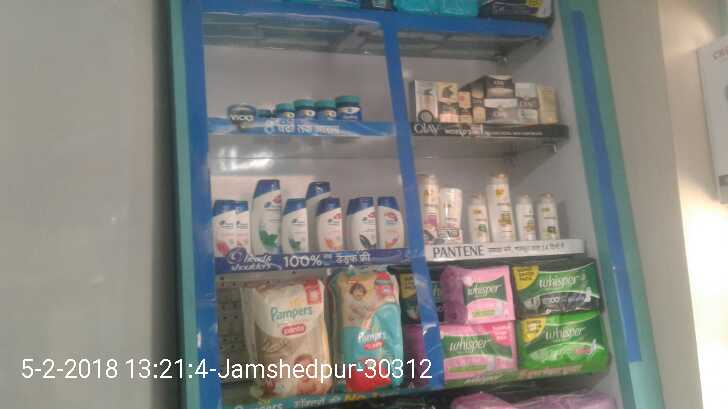beauty: (249, 178, 280, 259), (279, 193, 308, 253), (375, 198, 407, 252), (214, 199, 243, 256), (538, 189, 566, 248), (489, 172, 514, 237), (318, 200, 346, 254), (350, 196, 375, 249), (419, 177, 437, 248), (437, 181, 457, 243), (515, 194, 538, 242), (414, 80, 438, 126), (440, 76, 462, 124), (482, 95, 519, 123), (516, 80, 539, 121), (469, 193, 487, 242), (471, 80, 485, 126), (484, 74, 513, 96)
pharmacy: (241, 287, 330, 398), (334, 268, 414, 390), (518, 317, 610, 369), (519, 260, 599, 310), (449, 263, 517, 321), (436, 324, 511, 373), (335, 95, 363, 125), (315, 102, 340, 126), (275, 101, 295, 120), (297, 99, 316, 118)
